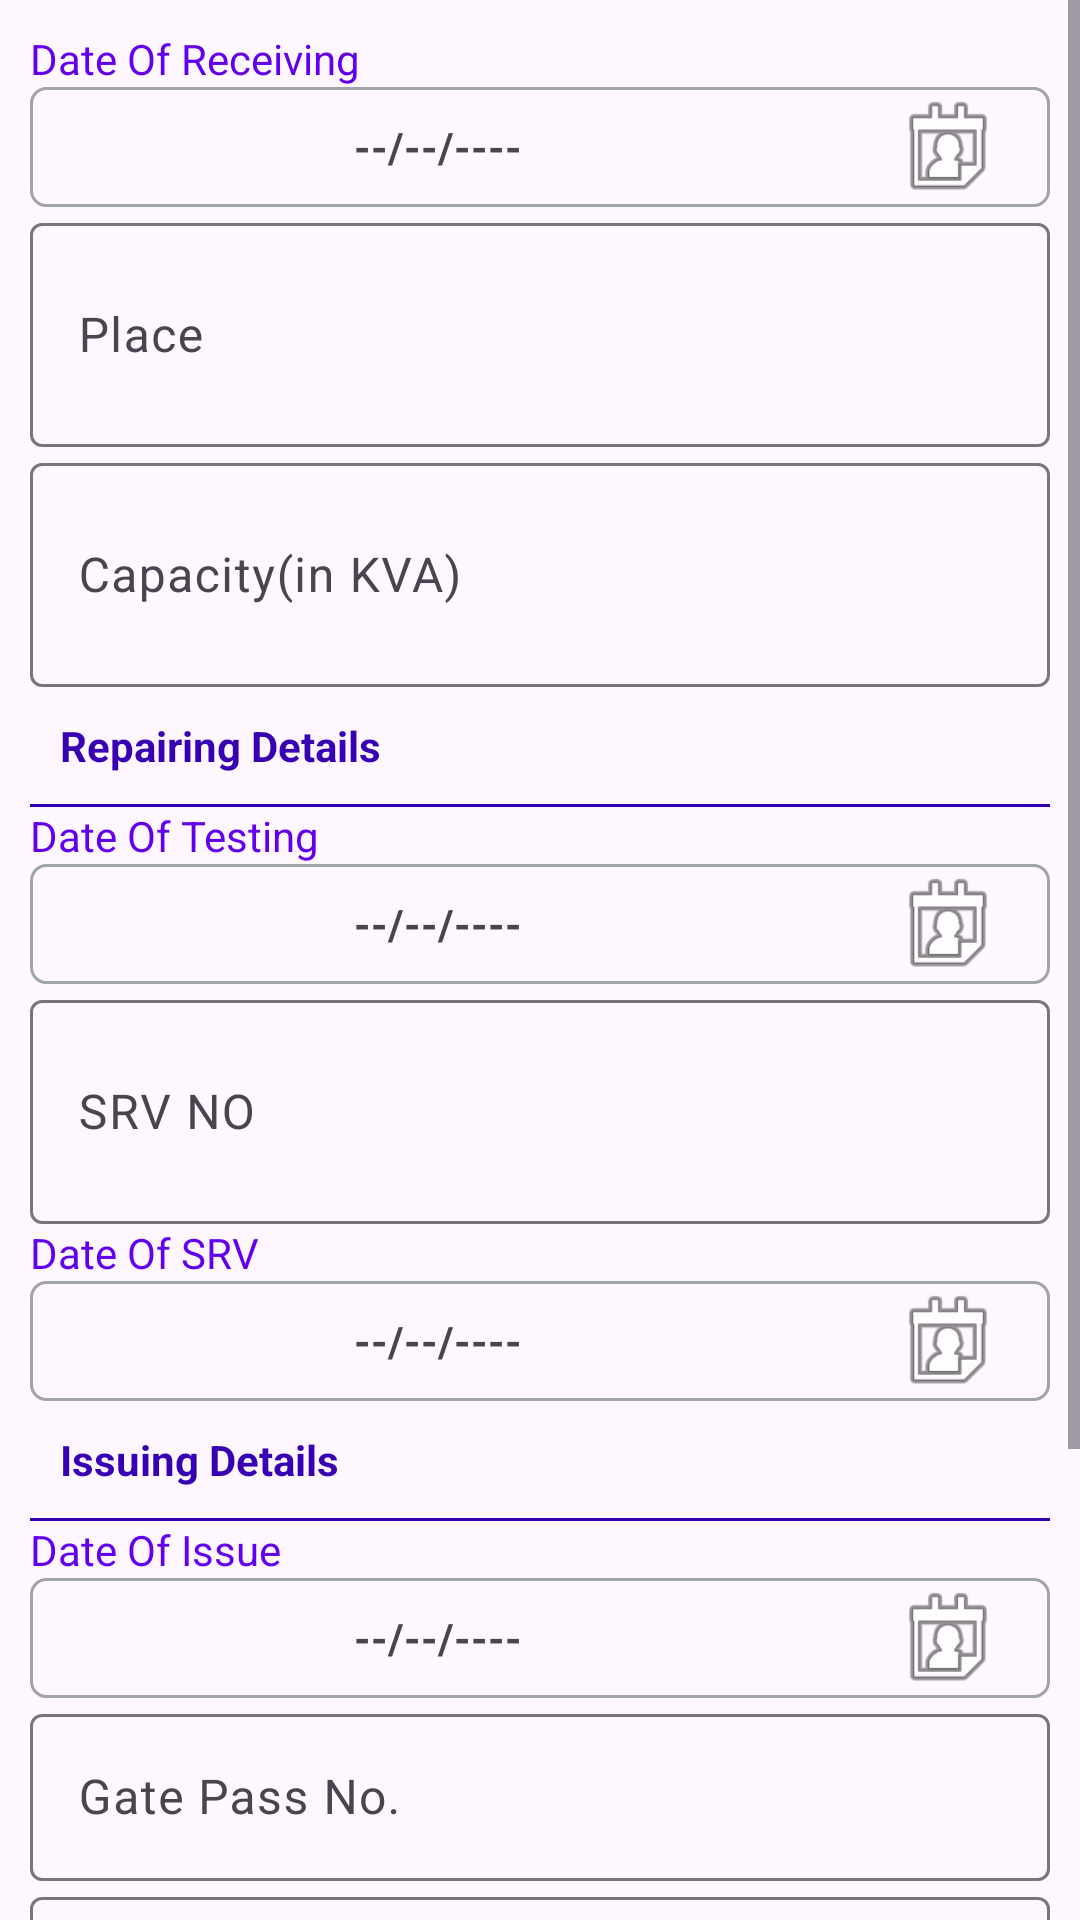

Named icons in this screenshot (1080x1920) and their bounding boxes, Rect(x1, y1, x2, y2):
calendar: Rect(909, 102, 987, 190), Rect(909, 879, 987, 967), Rect(909, 1296, 987, 1384), Rect(909, 1593, 987, 1681)
